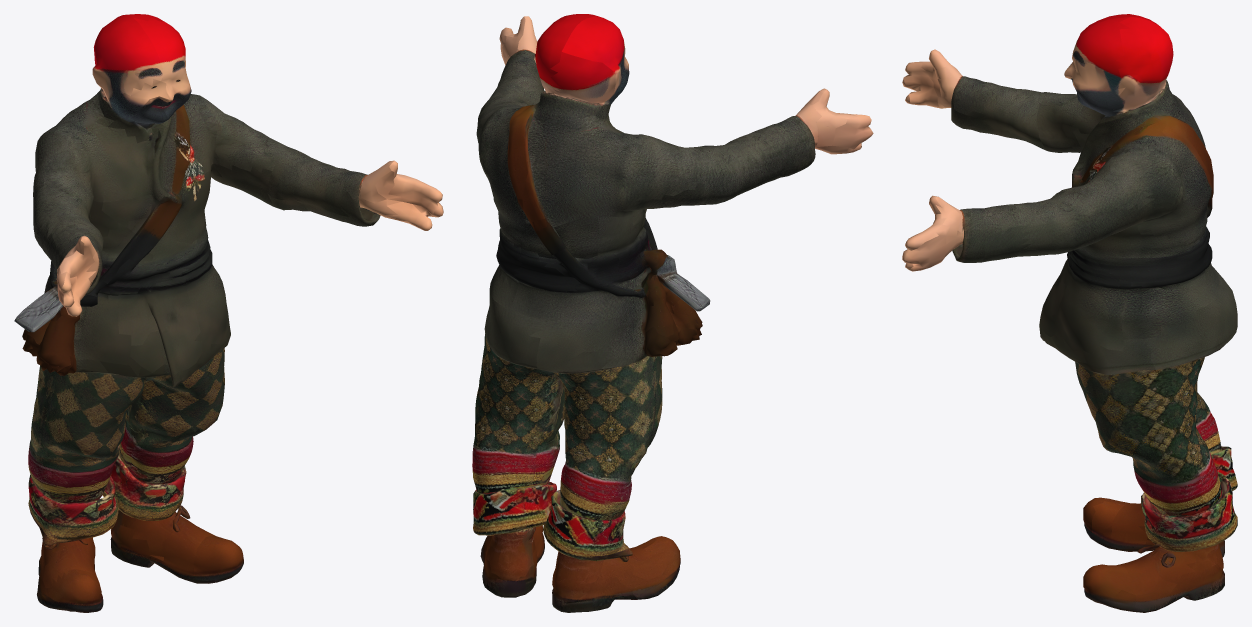
File: hub_dombra_musician.glb
The picture shows the model from 3 angles, left to right: view 1: azimuth 30°, elevation 25°; view 2: azimuth 150°, elevation 25°; view 3: azimuth 270°, elevation 25°; orthographic projection. The views are drawn at different scales.
Bounding box in the file's own units: 1.33 × 1.91 × 1.05.
1 material, 1 textured.
